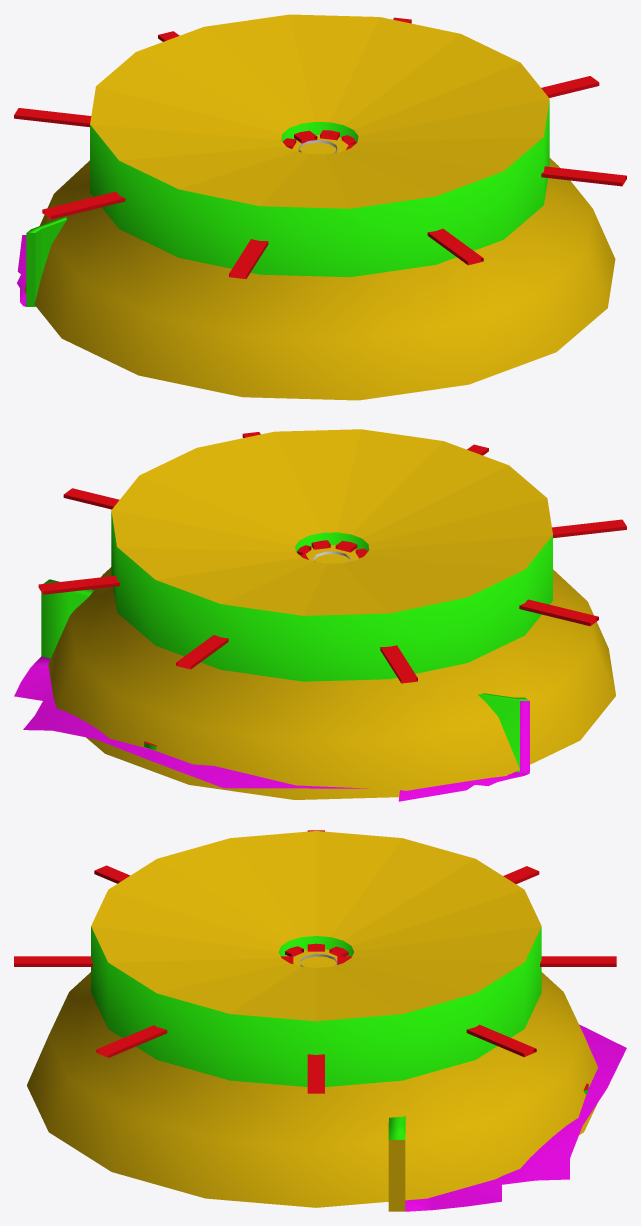
The model's file is Floor 15.fbx.
The picture shows the model from 3 angles, top to bottom: view 1: azimuth 30°, elevation 25°; view 2: azimuth 150°, elevation 25°; view 3: azimuth 270°, elevation 25°; orthographic projection. The views are drawn at different scales.
Parts seen in each view (by area): view 1: Sphere; view 2: Sphere; view 3: Sphere.
Part boxes in pixels (bbox=[...]): Sphere: bbox=[14, 14, 626, 400]; Sphere: bbox=[14, 429, 626, 801]; Sphere: bbox=[14, 830, 626, 1211].
Bounding box in the file's own units: 25900 × 7607 × 25808.
